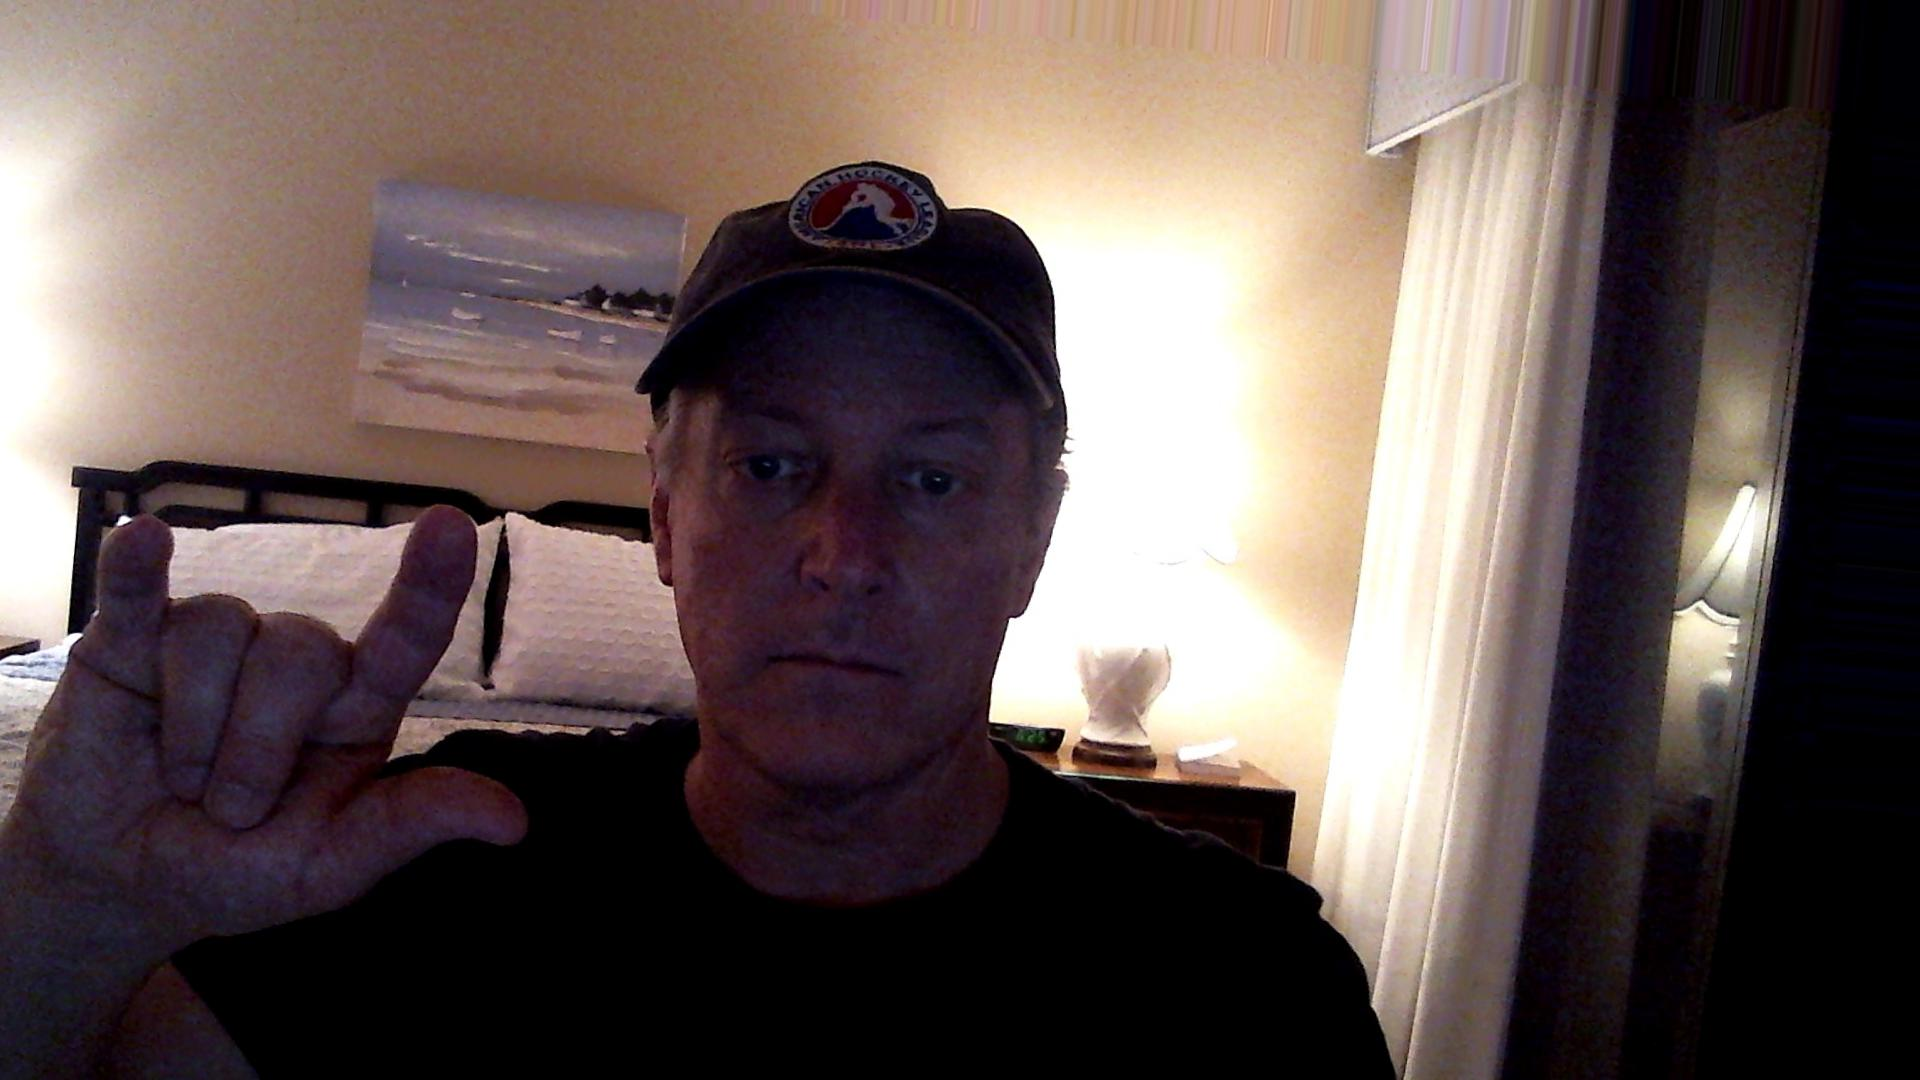I Love You: (3, 480, 559, 953)
